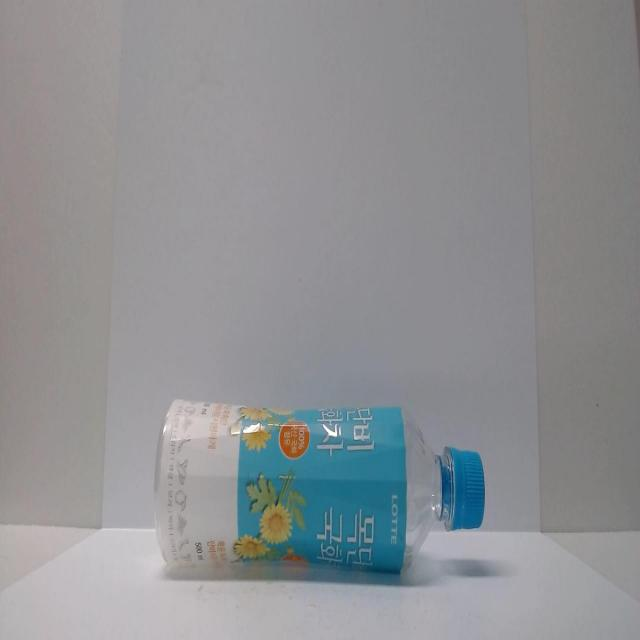bottle: (145, 388, 496, 598)
